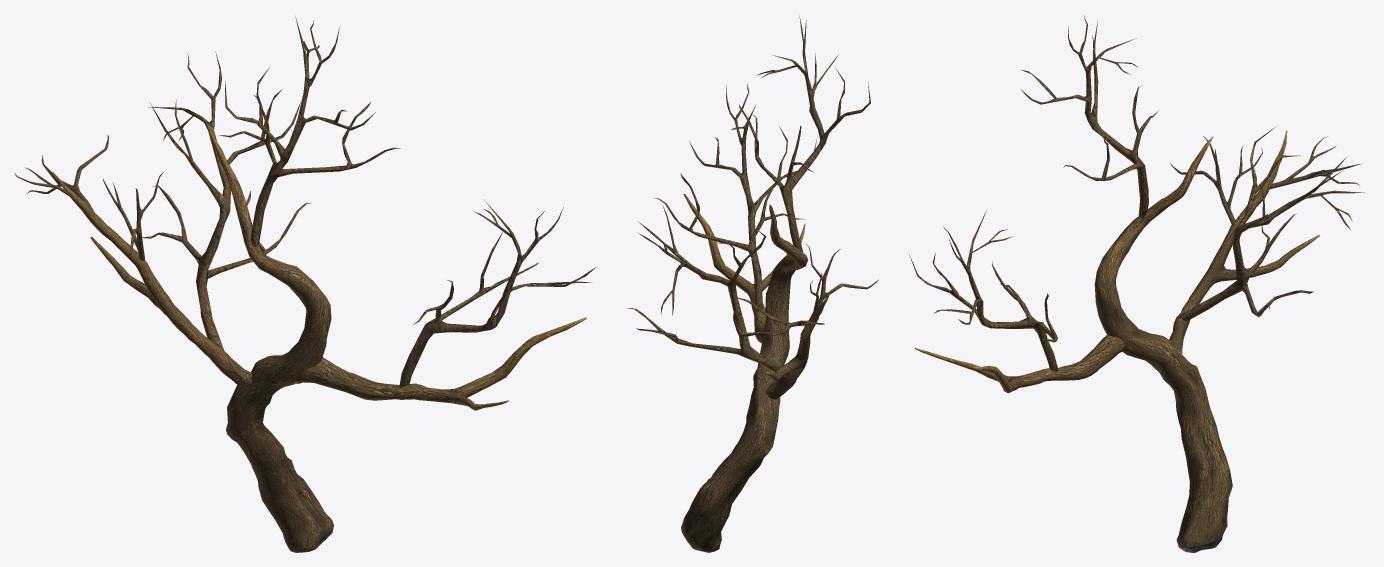
File: DryTreeT1_branches_1_SM.fbx
3 views of the same model, side by side, from view 1: azimuth 30°, elevation 25°; view 2: azimuth 150°, elevation 25°; view 3: azimuth 270°, elevation 25° (orthographic). The views are drawn at different scales.
Visible parts, largest first — view 1: DryTreeT1_branches_1_SM; view 2: DryTreeT1_branches_1_SM; view 3: DryTreeT1_branches_1_SM.
Boxes of the visible parts, box(x1,y1,x2,y2) form: DryTreeT1_branches_1_SM: box(14, 16, 597, 552); DryTreeT1_branches_1_SM: box(627, 16, 878, 552); DryTreeT1_branches_1_SM: box(909, 16, 1364, 552).
Bounding box in the file's own units: 500 × 761 × 617.
